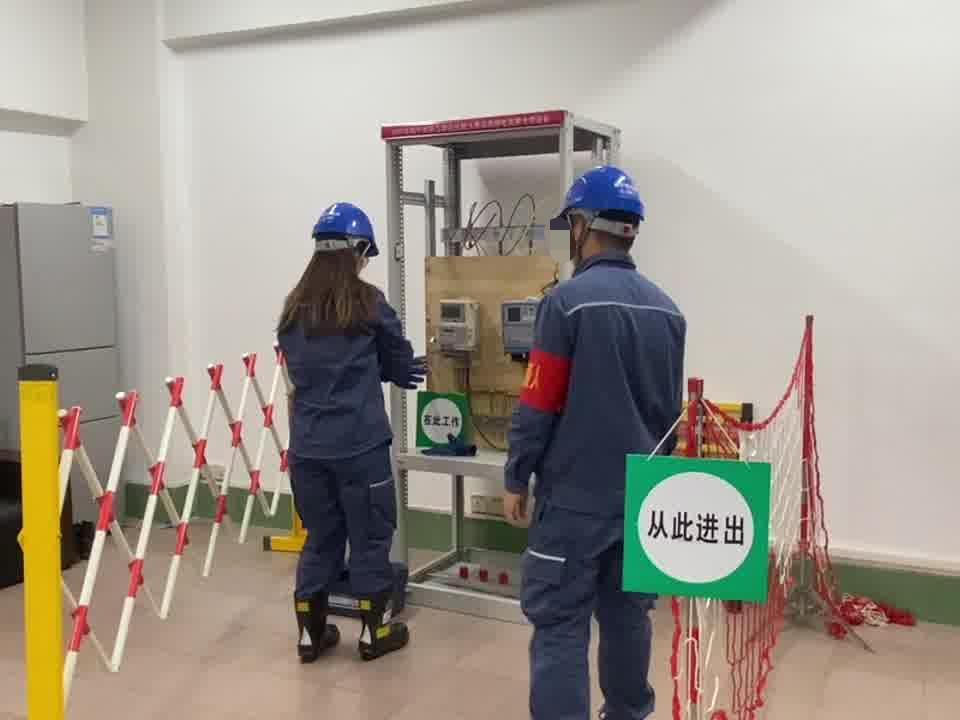halt: (559, 166, 651, 259), (313, 203, 382, 267)
inear: (567, 211, 598, 257)
